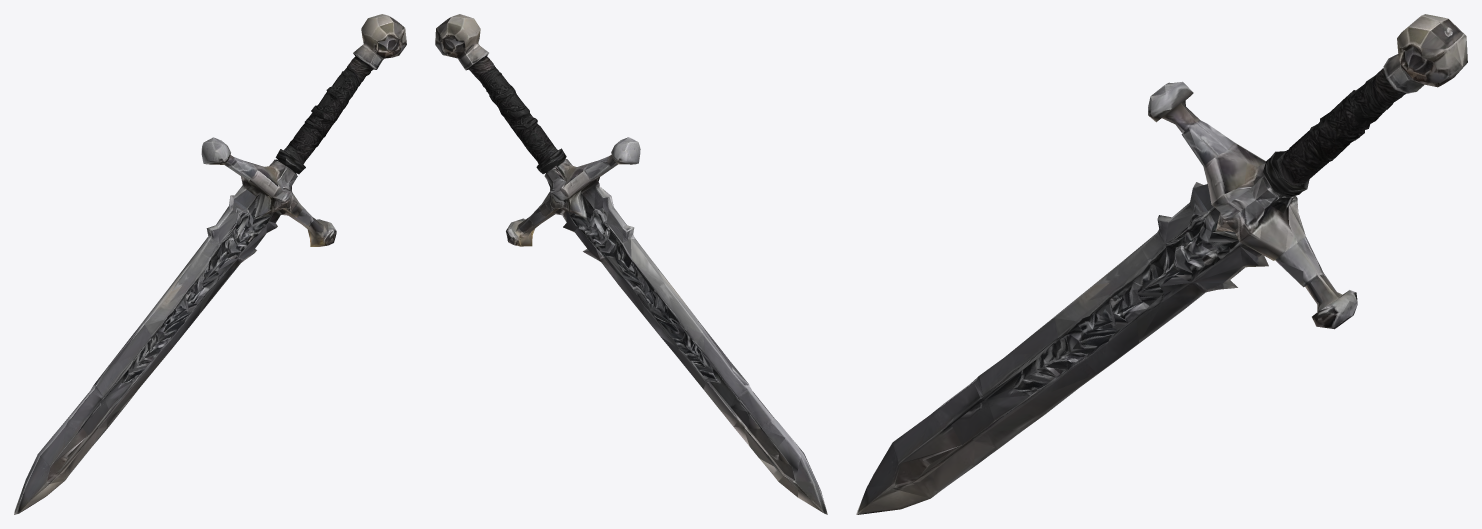
File: greatsword_opt.fbx
The picture shows the model from 3 angles, left to right: view 1: azimuth 30°, elevation 25°; view 2: azimuth 150°, elevation 25°; view 3: azimuth 330°, elevation 25°; orthographic projection. The views are drawn at different scales.
Parts seen in each view (by area): view 1: tripo_node_734e3fa8; view 2: tripo_node_734e3fa8; view 3: tripo_node_734e3fa8.
Boxes of the visible parts, x1,y1,x2,y2 form: tripo_node_734e3fa8: [14, 14, 406, 514]; tripo_node_734e3fa8: [435, 14, 827, 514]; tripo_node_734e3fa8: [856, 14, 1467, 514].
Bounding box in the file's own units: 98.19 × 98.26 × 15.26.
Materials: 1 (1 with a texture image).
